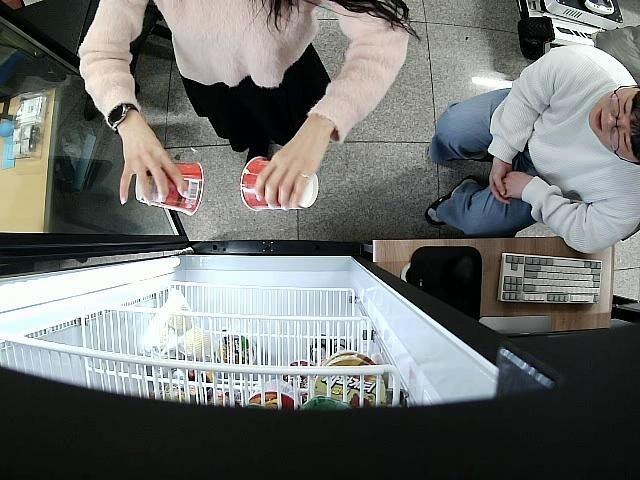02_shinRamen_S: (245, 156, 320, 213), (134, 159, 203, 216)
